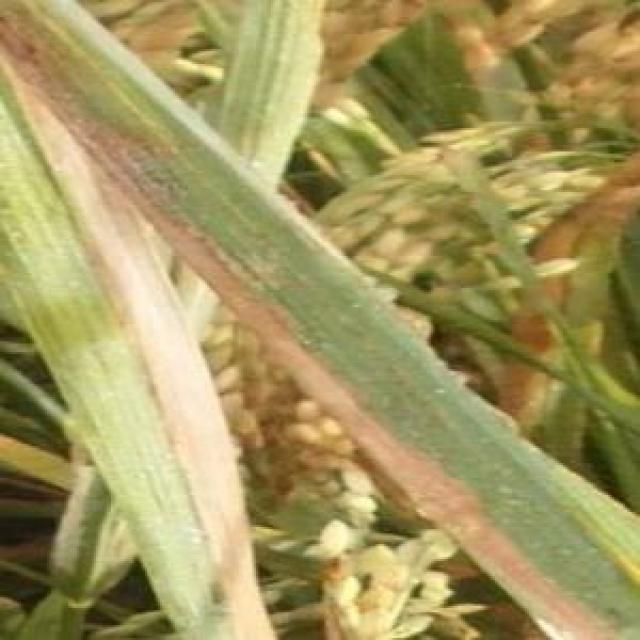leaf blight: (2, 17, 602, 640)
